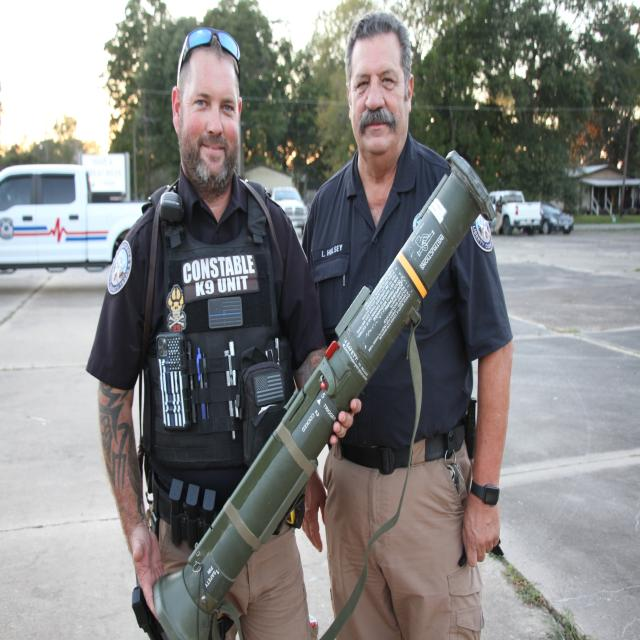bazooka: (135, 125, 514, 640)
